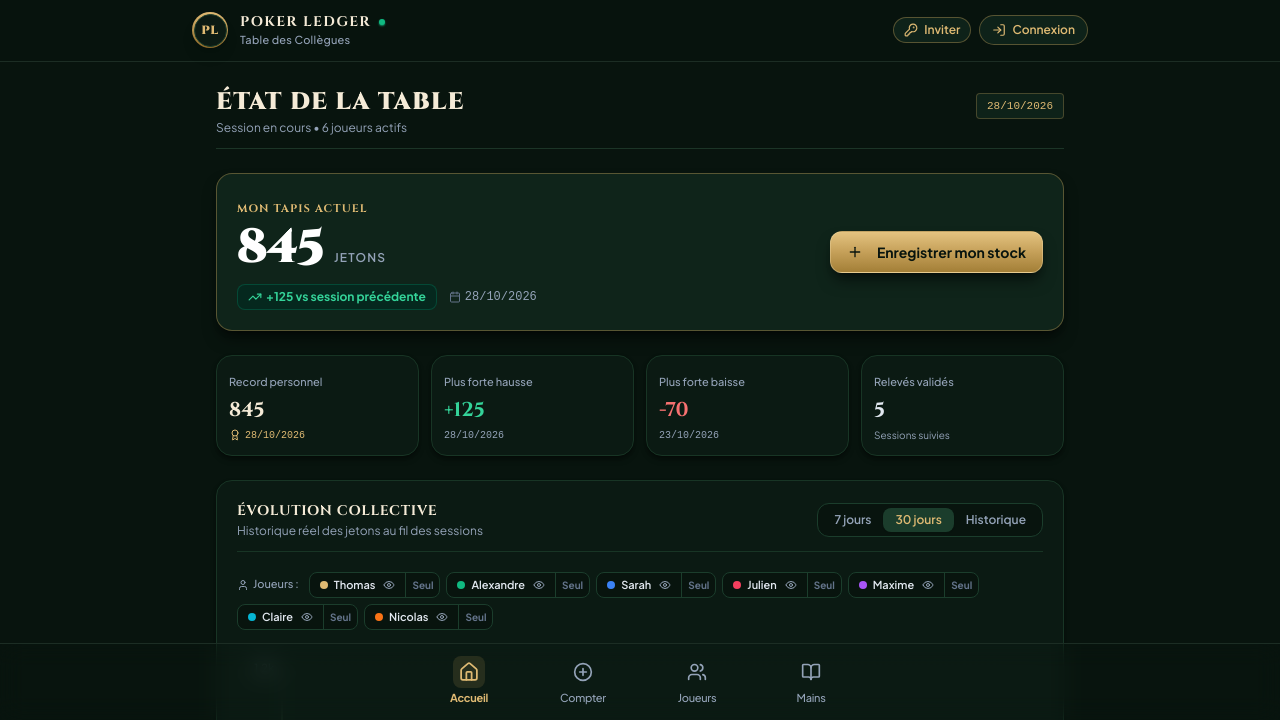
Test: App - Shell responsive et navigation › navigue vers l’onglet Compter lors du clic sur le bouton de navigation
This screenshot has width=1280, height=720.
Click the button "Compter" at (583, 681), box [530,652,636,710]
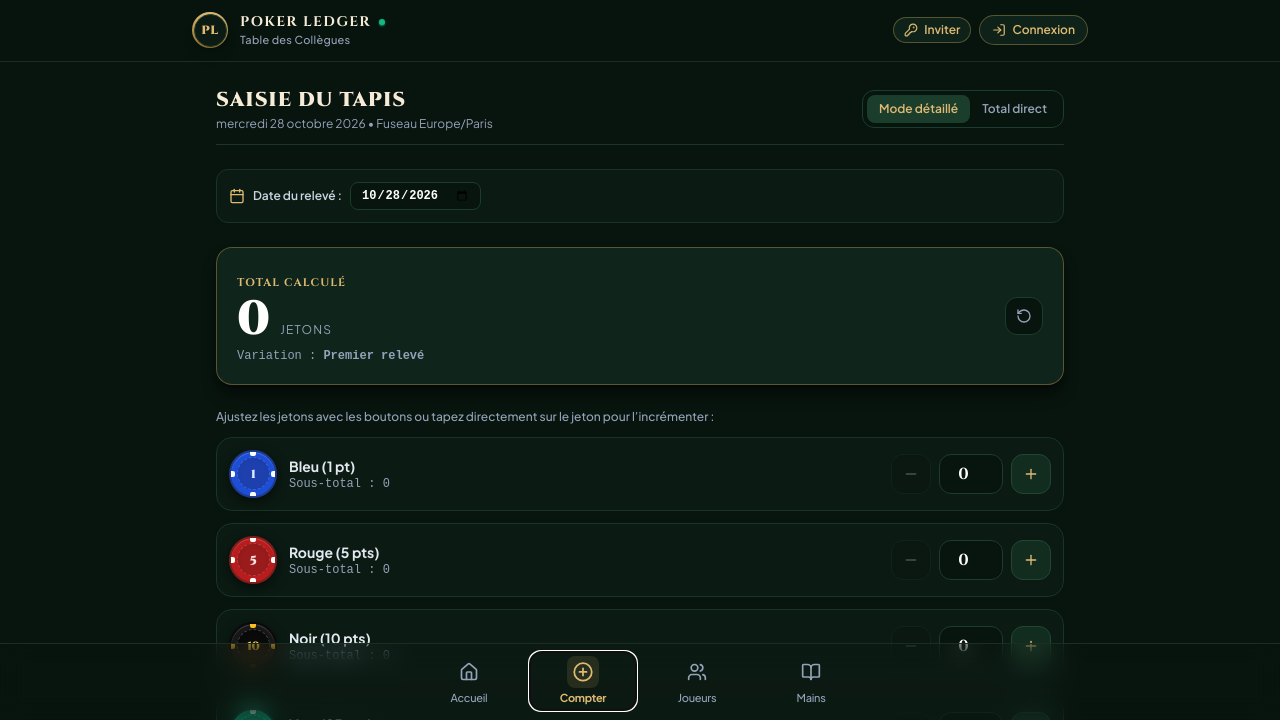
Now the heading "Saisie du Tapis" is shown, box [216,86,406,112]
Now the text "Total calculé" is shown, box [237,274,346,290]
